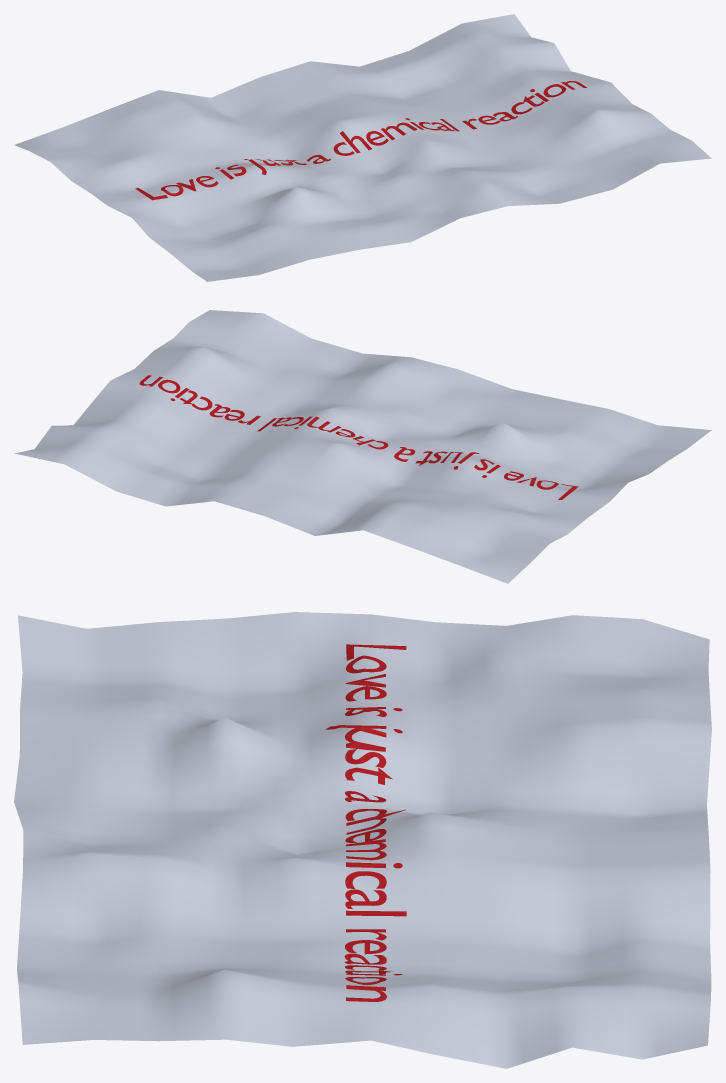
The model's file is papertext4.fbx.
3 views of the same model, one above another, from view 1: azimuth 30°, elevation 25°; view 2: azimuth 150°, elevation 25°; view 3: azimuth 270°, elevation 25° (orthographic). The views are drawn at different scales.
Visible parts, largest first — view 1: Plane, Text; view 2: Plane, Text; view 3: Plane, Text.
Boxes of the visible parts, x1,y1,x2,y2 form: Plane: (14,14,711,281); Text: (135,81,586,200); Plane: (14,310,711,583); Text: (139,375,578,499); Plane: (14,612,711,1068); Text: (326,644,406,1001).
Bounding box in the file's own units: 134 × 9.14 × 91.91.
